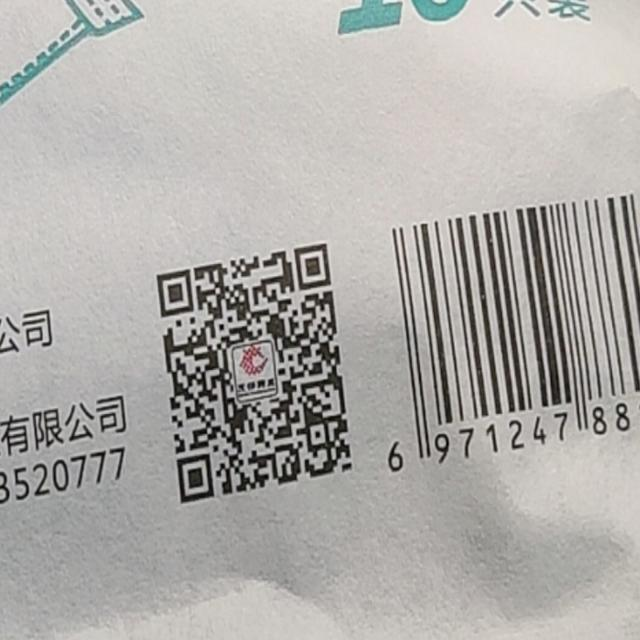qr_code: (156, 242, 354, 506)
